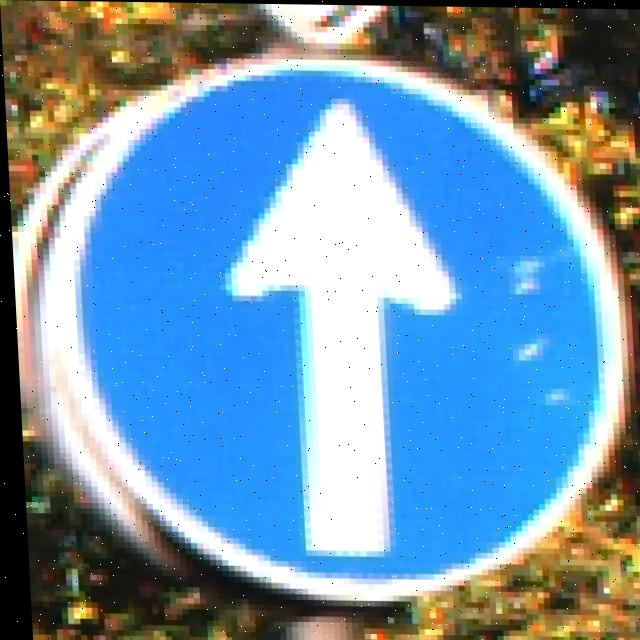compulsory_ahead: (83, 68, 640, 612)
